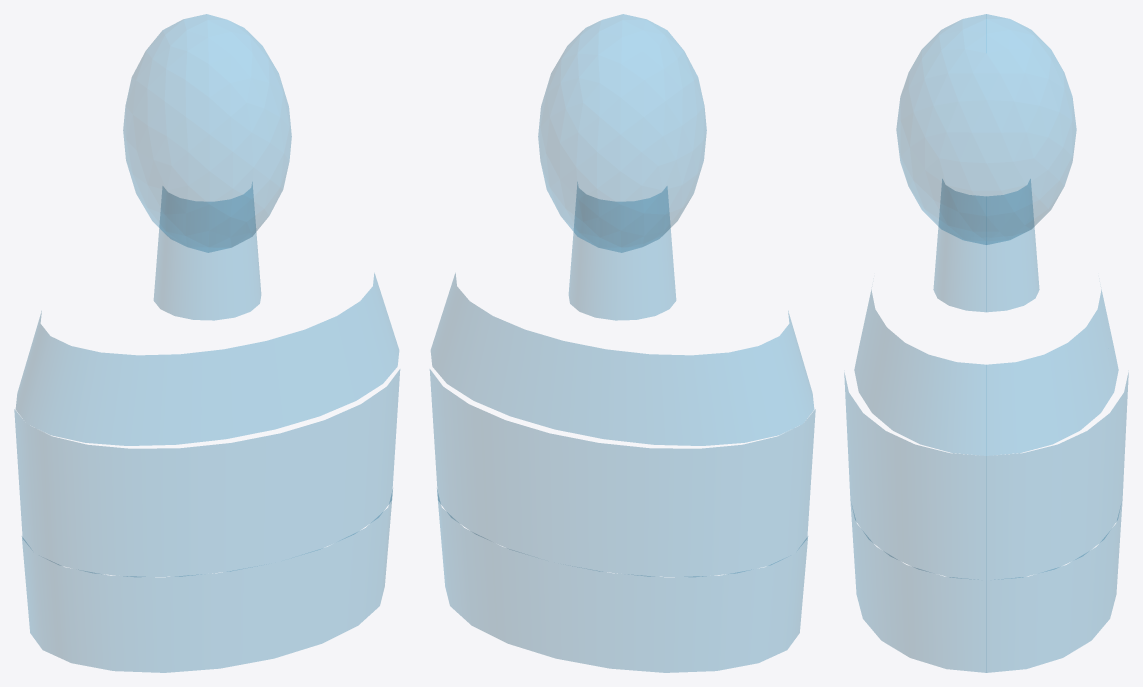
File: hologram-female.glb
3 renders of one model, left to right at view 1: azimuth 30°, elevation 25°; view 2: azimuth 150°, elevation 25°; view 3: azimuth 270°, elevation 25°, orthographic. The views are drawn at different scales.
Visible parts, largest first — view 1: Chest, Shoulders, Torso, Head, Neck; view 2: Chest, Shoulders, Torso, Head, Neck; view 3: Chest, Head, Shoulders, Torso, Neck.
Boxes of the visible parts, x1,y1,x2,y2 form: Chest: [14, 370, 399, 576]; Shoulders: [16, 273, 398, 445]; Torso: [22, 491, 392, 672]; Head: [123, 14, 291, 252]; Neck: [154, 185, 260, 320]; Chest: [430, 370, 815, 576]; Shoulders: [431, 273, 813, 445]; Torso: [437, 491, 807, 672]; Head: [538, 14, 706, 252]; Neck: [569, 185, 675, 320]; Chest: [844, 373, 1128, 580]; Head: [896, 14, 1076, 244]; Shoulders: [854, 290, 1118, 455]; Torso: [850, 500, 1122, 672]; Neck: [933, 179, 1039, 311].
Size of the model in its own units: 230 by 359 by 161.
